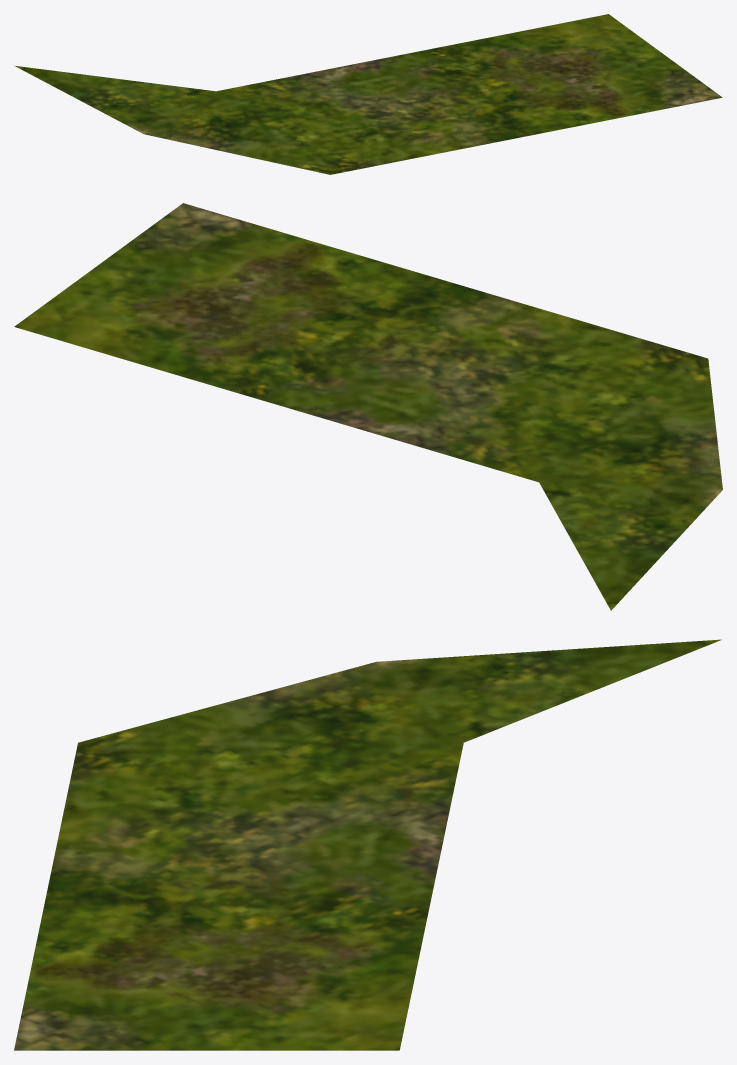
File: OVERHILL_A_01_LINE102.fbx
The picture shows the model from 3 angles, top to bottom: view 1: azimuth 30°, elevation 25°; view 2: azimuth 150°, elevation 25°; view 3: azimuth 270°, elevation 25°; orthographic projection. The views are drawn at different scales.
Visible parts, largest first — view 1: OVERHILL_A_01_LINE102; view 2: OVERHILL_A_01_LINE102; view 3: OVERHILL_A_01_LINE102.
Boxes of the visible parts, x1,y1,x2,y2 form: OVERHILL_A_01_LINE102: [14, 14, 722, 174]; OVERHILL_A_01_LINE102: [14, 203, 722, 610]; OVERHILL_A_01_LINE102: [14, 639, 721, 1050].
Bounding box in the file's own units: 13312 × 0.0504 × 9705.
Materials: 1 (1 with a texture image).
